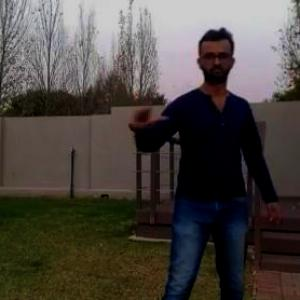land_hand: (124, 86, 170, 133)
